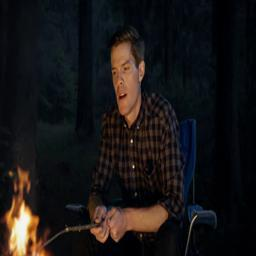fire: (3, 165, 48, 256)
